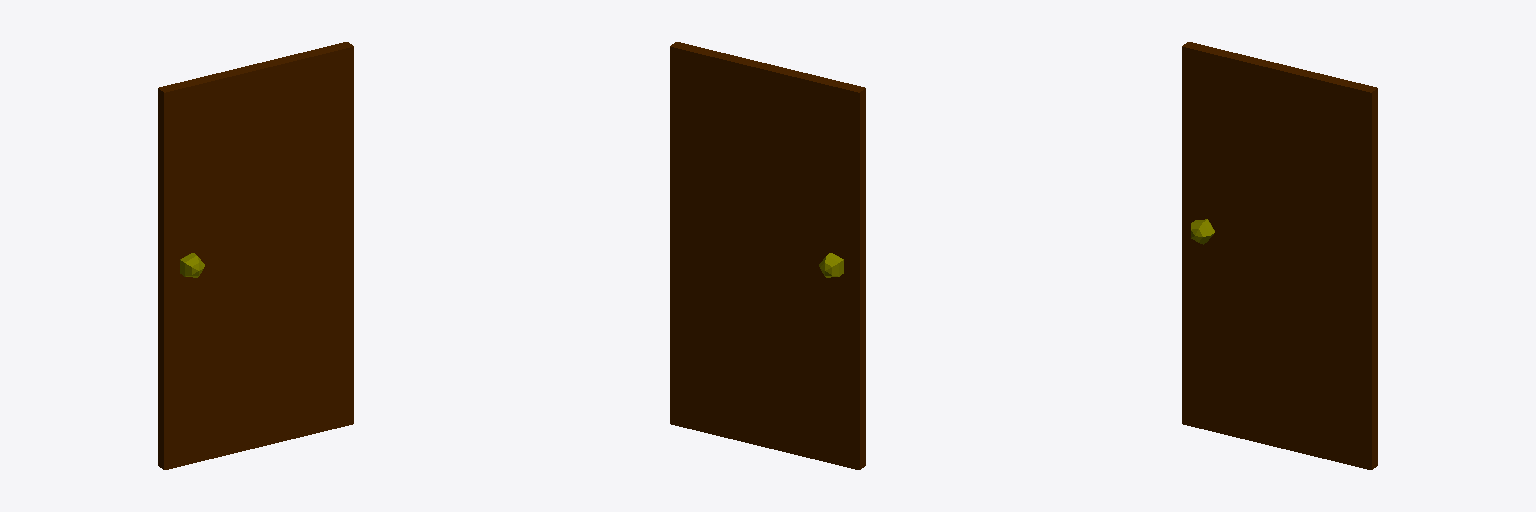
The model's file is door.obj.
3 renders of one model, left to right at view 1: azimuth 30°, elevation 25°; view 2: azimuth 150°, elevation 25°; view 3: azimuth 330°, elevation 25°, orthographic.
Size of the model in its own units: 1.6 by 3.04 by 0.4.